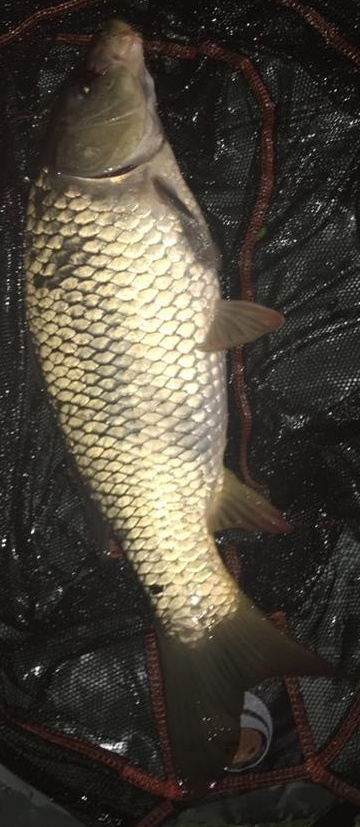Cyprinus carpio: (20, 20, 340, 807)
